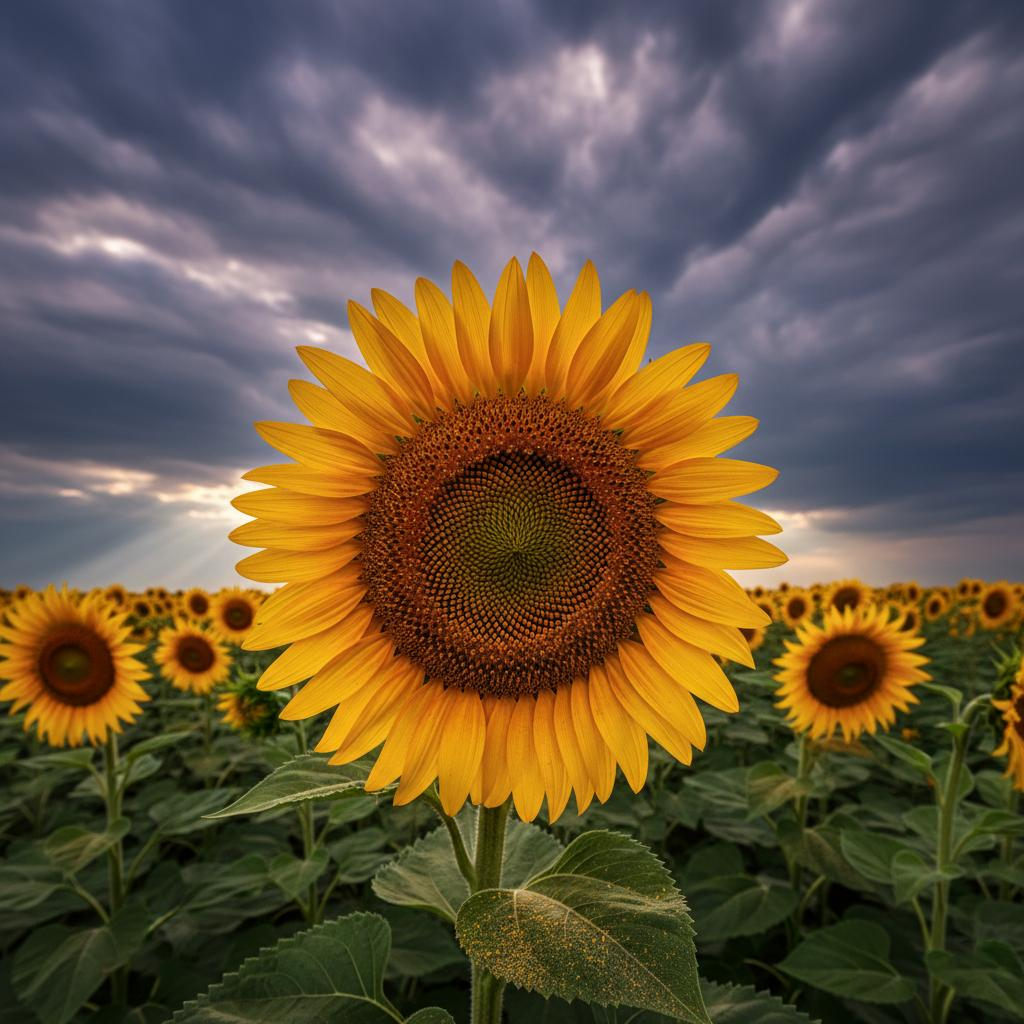sunflower: (226, 250, 789, 826)
